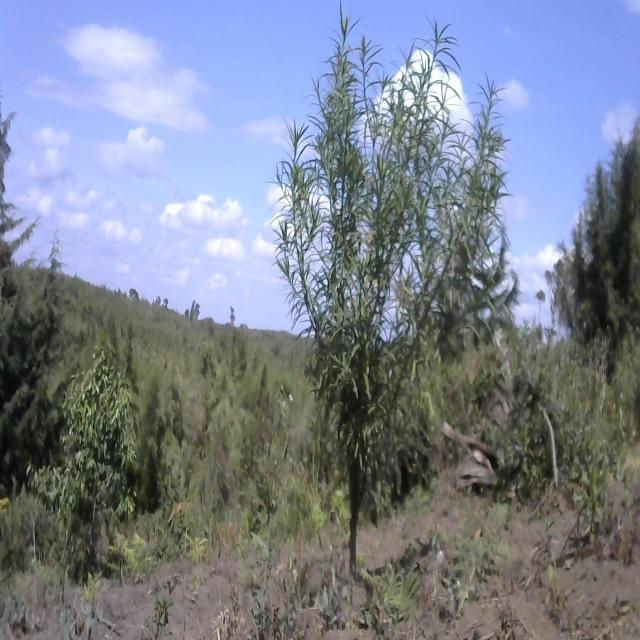Juniperus procesera: (0, 94, 65, 473)
Olea welwitchii: (26, 349, 141, 542)
Podocarpus falcatus: (276, 5, 513, 572)
